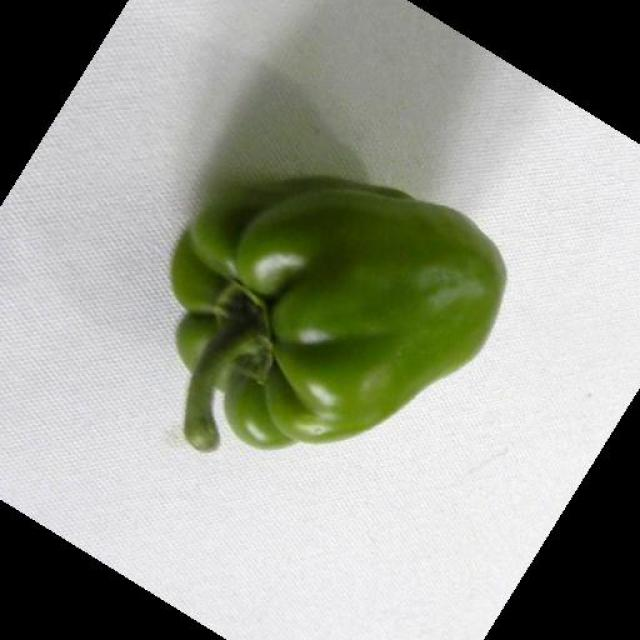Fresh_Capsicum: (156, 158, 500, 442)
